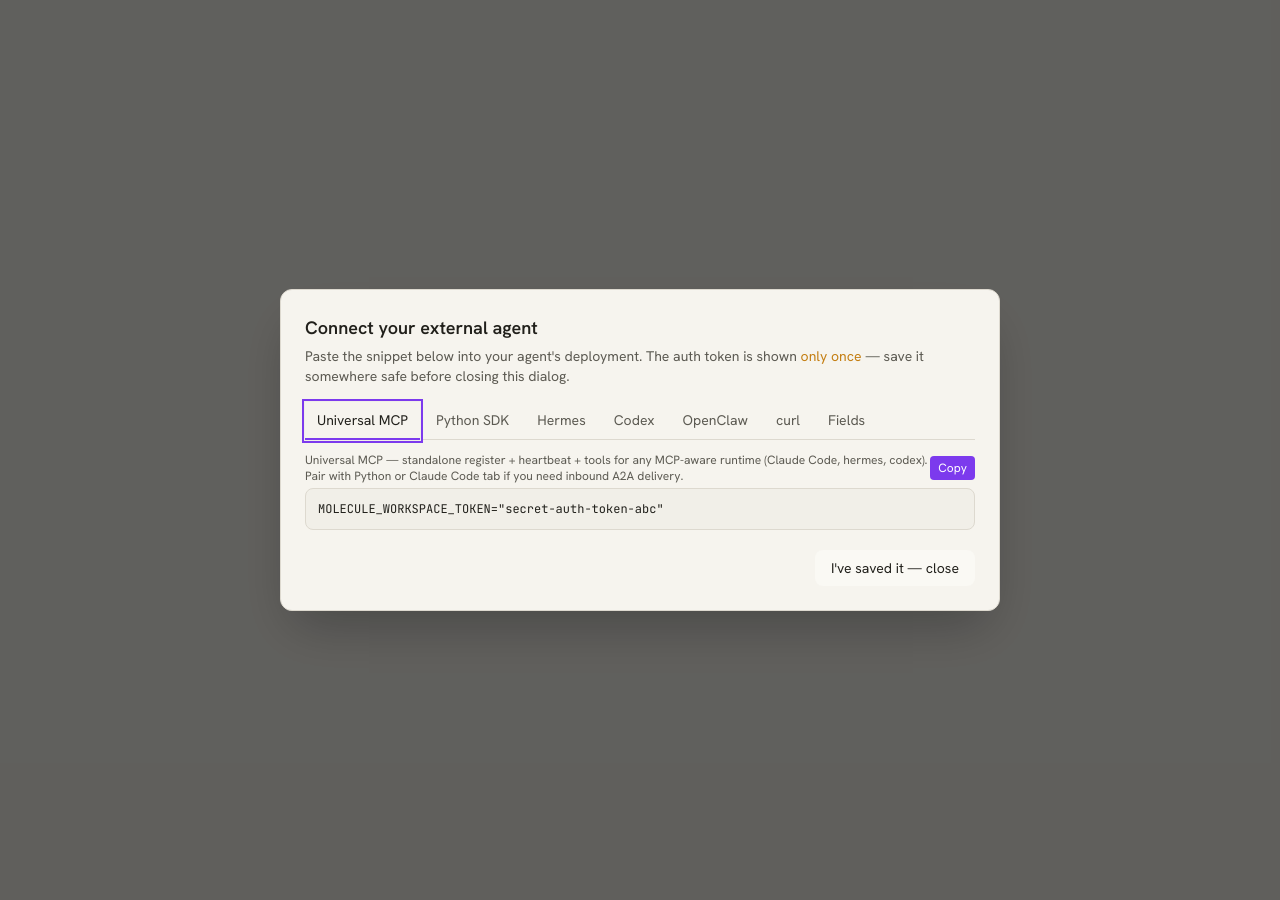
Scenario: ExternalConnectModal — tab switching › switches to the Fields tab and shows raw values
What coordinates should you click on to do the following:
click the tab "Fields"
I would click on:
 (847, 421)
Its box is [816,402,877,440].
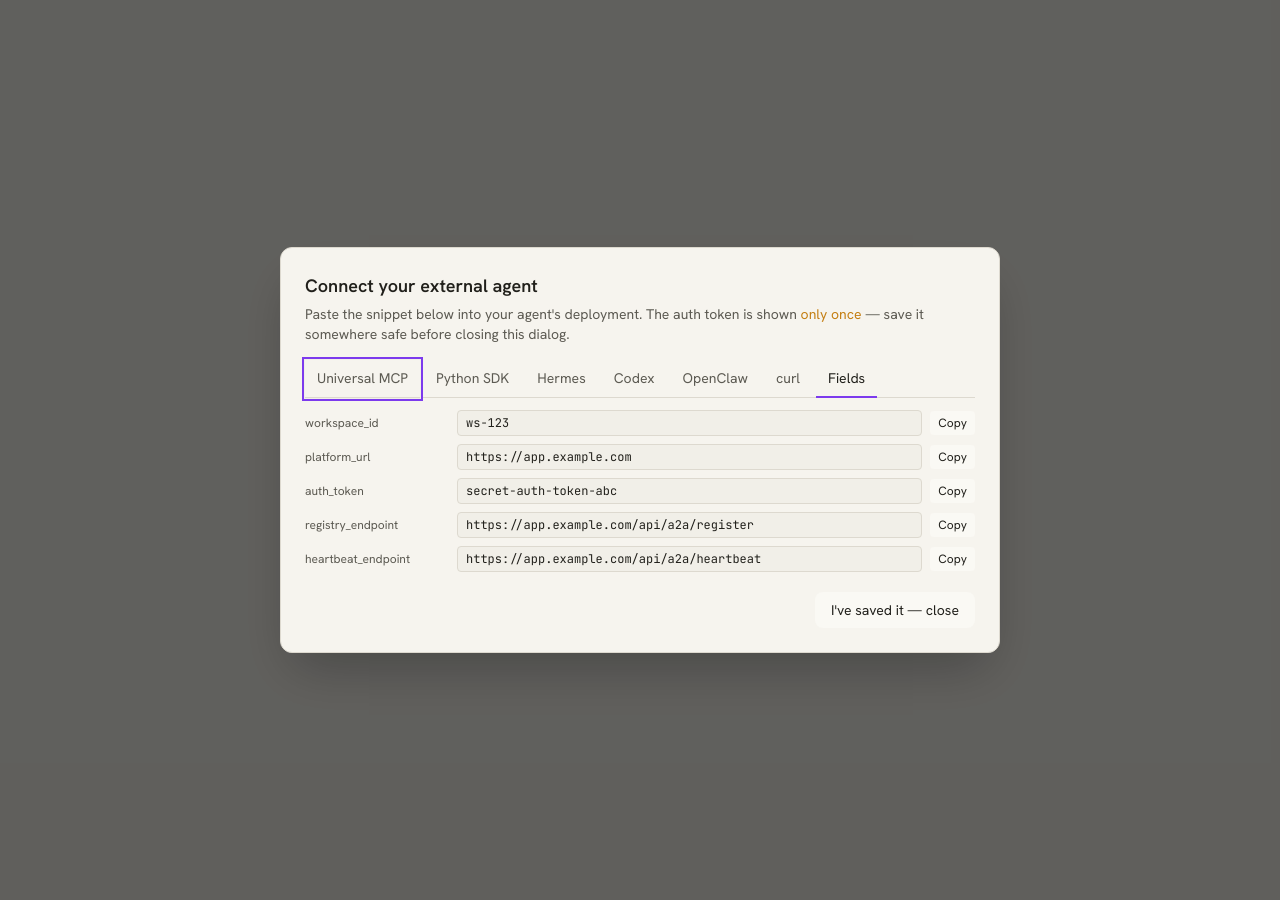
Check: the panel with test id "panel-fields" shows "ws-123", box [466,415,509,431]
Check: the panel with test id "panel-fields" shows "https://app.example.com", box [466,449,632,465]
Check: the panel with test id "panel-fields" shows "secret-auth-token-abc", box [466,483,617,499]
